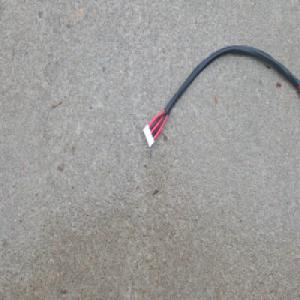Wire: (141, 43, 300, 149)
